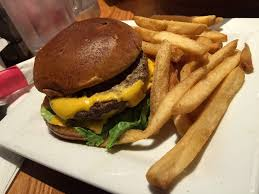hamburger: (32, 17, 160, 147)
